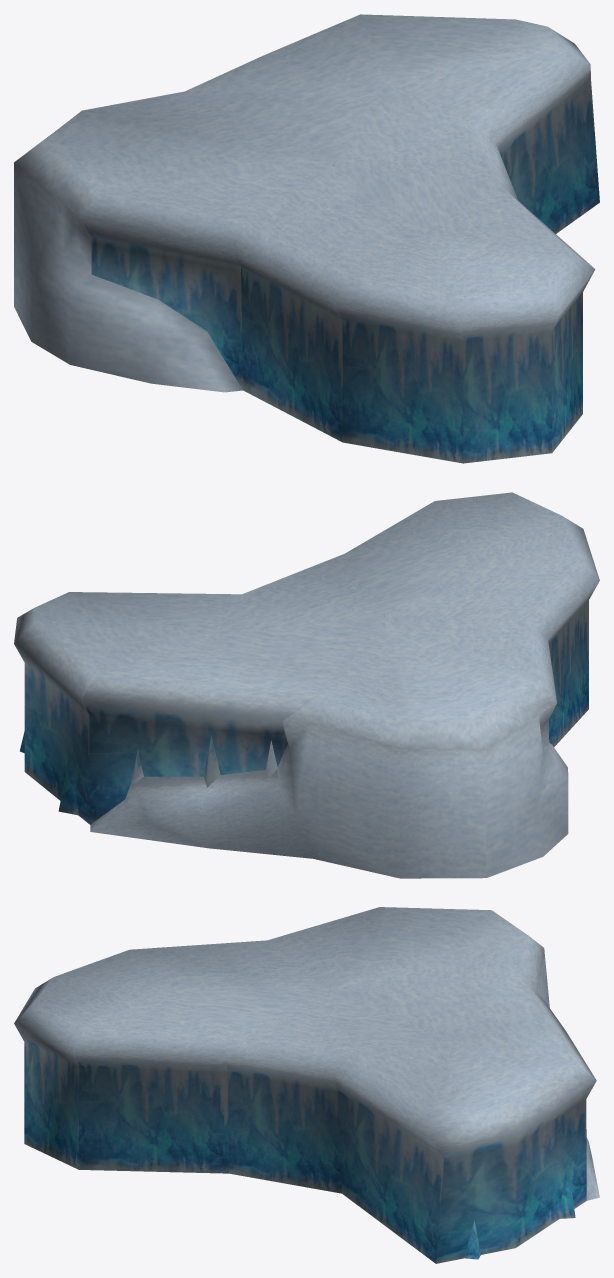
The model's file is yw_wanglingzhita_bingceng.FBX.
3 renders of one model, top to bottom at view 1: azimuth 30°, elevation 25°; view 2: azimuth 150°, elevation 25°; view 3: azimuth 270°, elevation 25°, orthographic. The views are drawn at different scales.
Visible parts, largest first — view 1: yw_wanglingzhita_bingceng; view 2: yw_wanglingzhita_bingceng; view 3: yw_wanglingzhita_bingceng.
Boxes of the visible parts, x1,y1,x2,y2 form: yw_wanglingzhita_bingceng: (14,14,599,463); yw_wanglingzhita_bingceng: (14,492,599,878); yw_wanglingzhita_bingceng: (14,907,599,1263).
Bounding box in the file's own units: 1436 × 396 × 1523.
